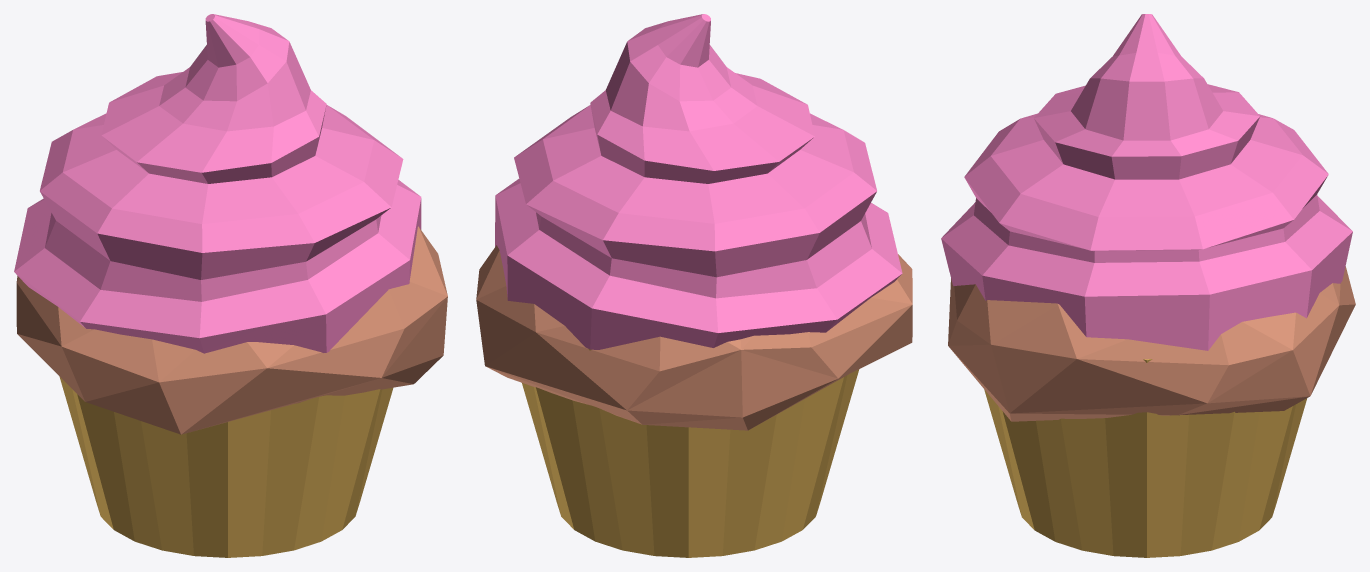
The model's file is cupcake.glb.
3 views of the same model, side by side, from view 1: azimuth 30°, elevation 25°; view 2: azimuth 150°, elevation 25°; view 3: azimuth 270°, elevation 25° (orthographic).
Visible parts, largest first — view 1: Cupcake; view 2: Cupcake; view 3: Cupcake.
Part boxes in pixels (<box>): Cupcake: <box>14,14,447,557</box>; Cupcake: <box>476,14,912,557</box>; Cupcake: <box>941,14,1355,557</box>.
Size of the model in its own units: 0.2504 by 0.3177 by 0.2475.
